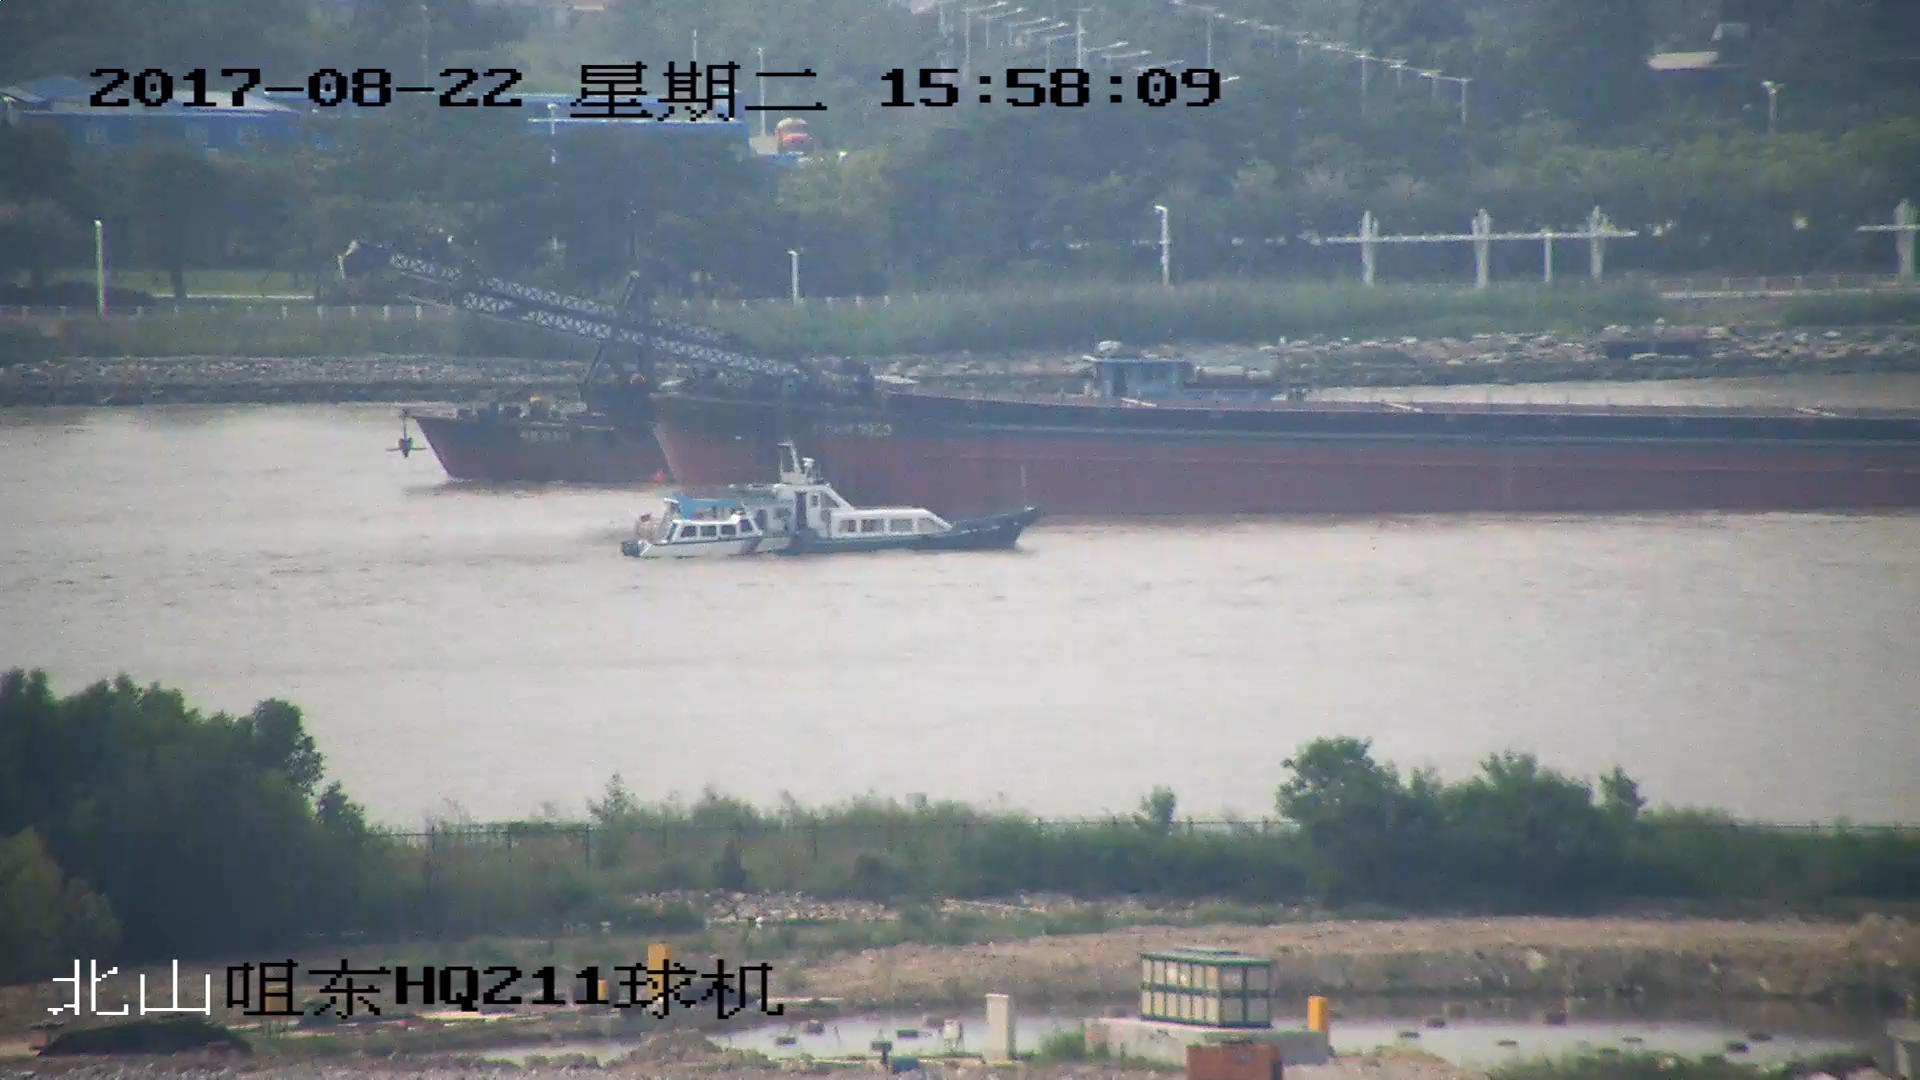Ship: (345, 243, 1920, 518), (615, 454, 1044, 560), (394, 400, 690, 485)
